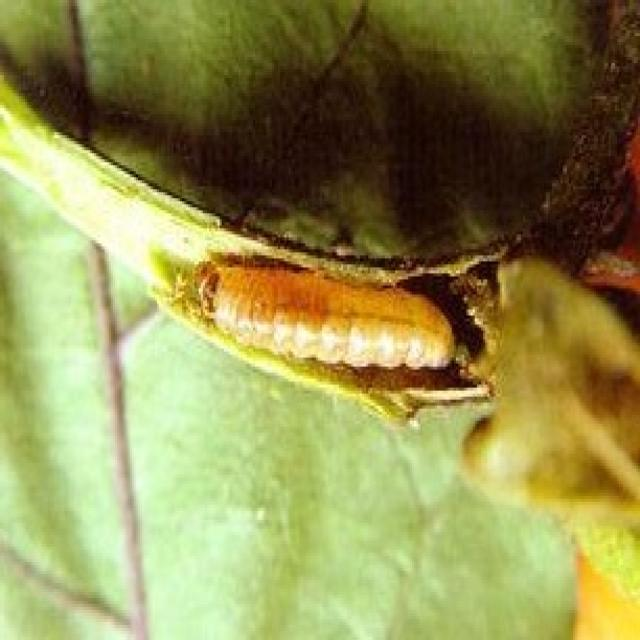peach borer: (178, 257, 460, 383)
